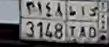1: (36, 1, 44, 39)
3: (25, 0, 34, 38)
4: (45, 1, 53, 39)
8: (55, 2, 63, 40)
A: (79, 5, 87, 40)
D: (89, 7, 96, 40)
T: (67, 5, 77, 40)
